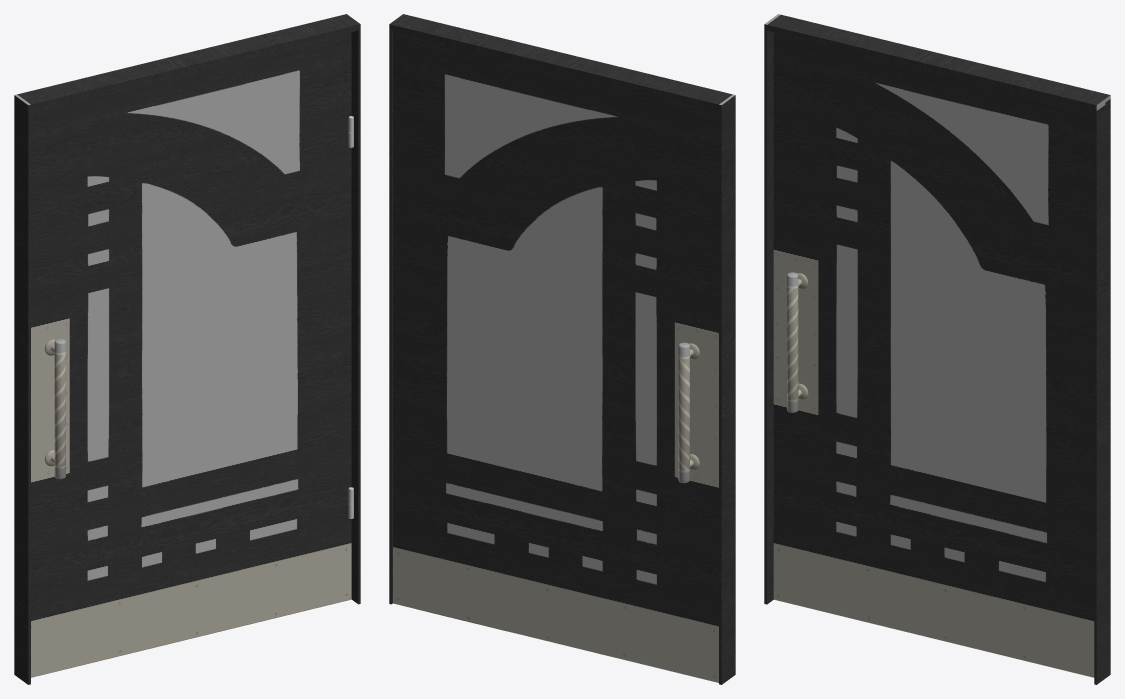
The model's file is DoorSingle01.FBX.
3 views of the same model, side by side, from view 1: azimuth 30°, elevation 25°; view 2: azimuth 150°, elevation 25°; view 3: azimuth 330°, elevation 25° (orthographic).
Visible parts, largest first — view 1: Door, Frame; view 2: Door, Frame; view 3: Door, Frame.
Boxes of the visible parts, x1,y1,x2,y2 form: Door: (31,32,353,677); Frame: (14,14,360,684); Door: (393,31,718,682); Frame: (389,14,735,684); Door: (773,32,1094,677); Frame: (764,14,1110,684).
Size of the model in its own units: 150 by 250 by 22.54.
